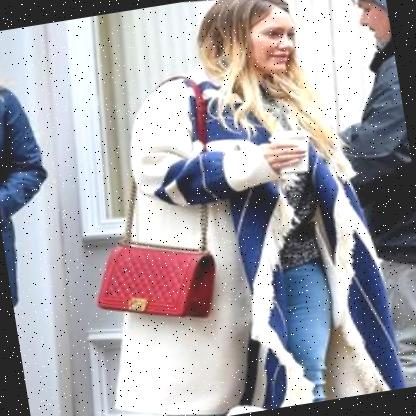bag: (85, 216, 230, 339)
person: (58, 0, 368, 416)
